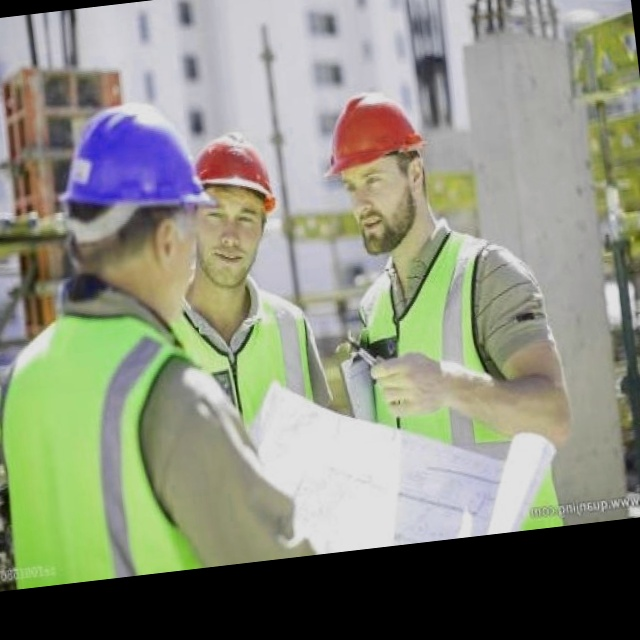Con_Casco: (318, 88, 432, 259)
